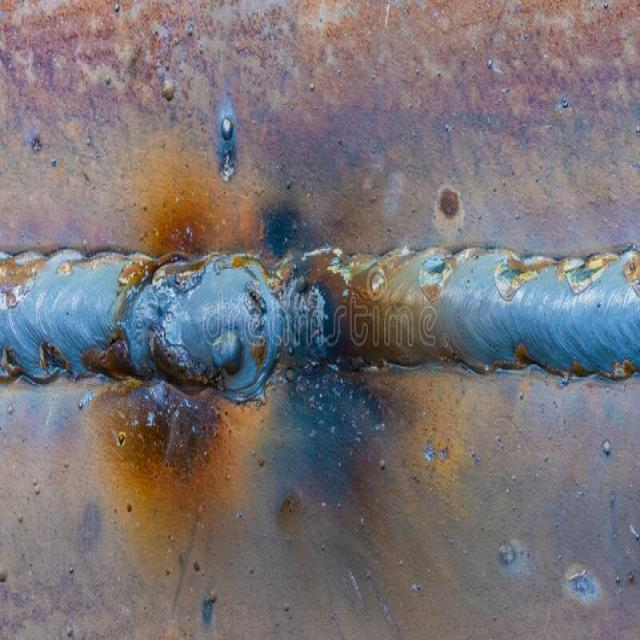Bad Welding: (5, 244, 638, 396)
